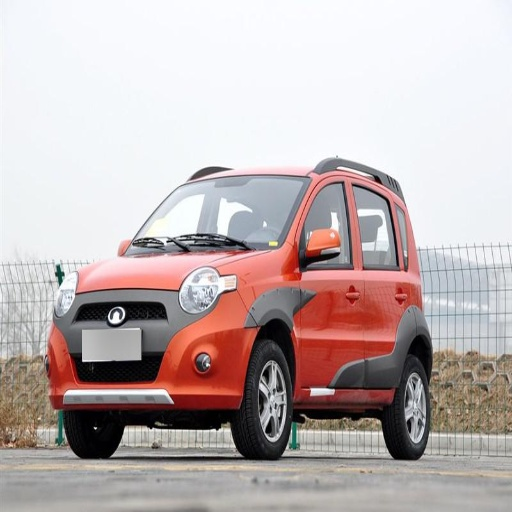front_bumper: (53, 291, 257, 408)
front_glass: (137, 176, 307, 252)
front_left_door: (298, 172, 365, 395)
